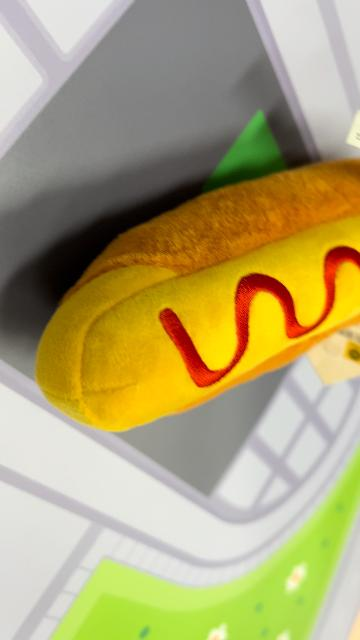hotdog: (33, 157, 358, 435)
